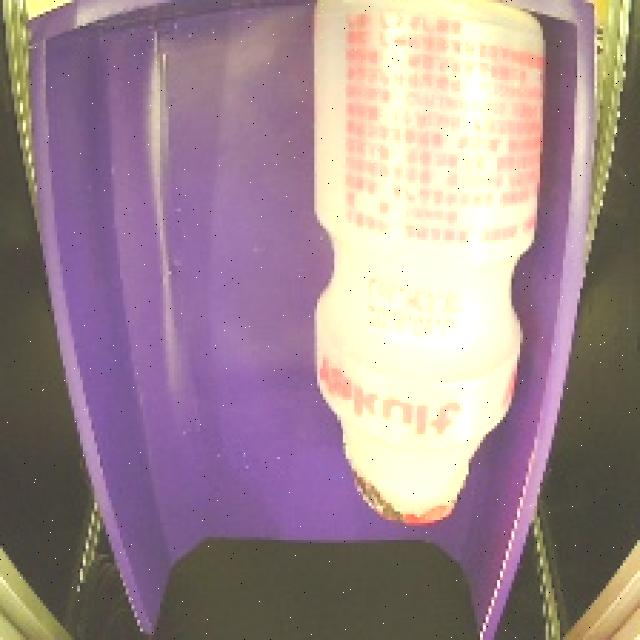plastic: (285, 1, 577, 543)
